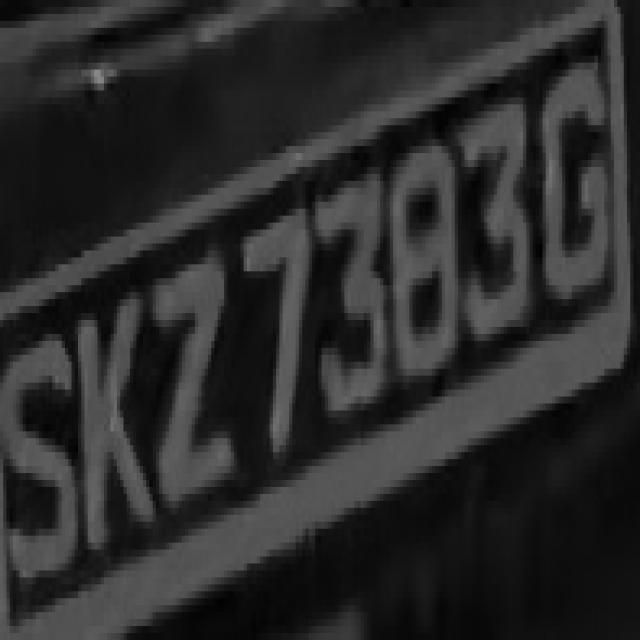3: (305, 181, 393, 424), (458, 104, 526, 383)
7: (230, 195, 308, 473)
8: (390, 111, 464, 383)
G: (530, 49, 617, 306)
K: (68, 250, 159, 570)
S: (3, 313, 75, 584)
Z: (140, 236, 237, 528)
